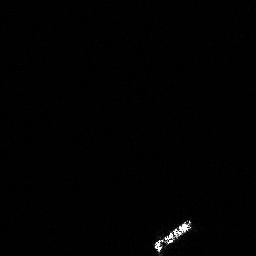ship: (154, 217, 193, 255)
